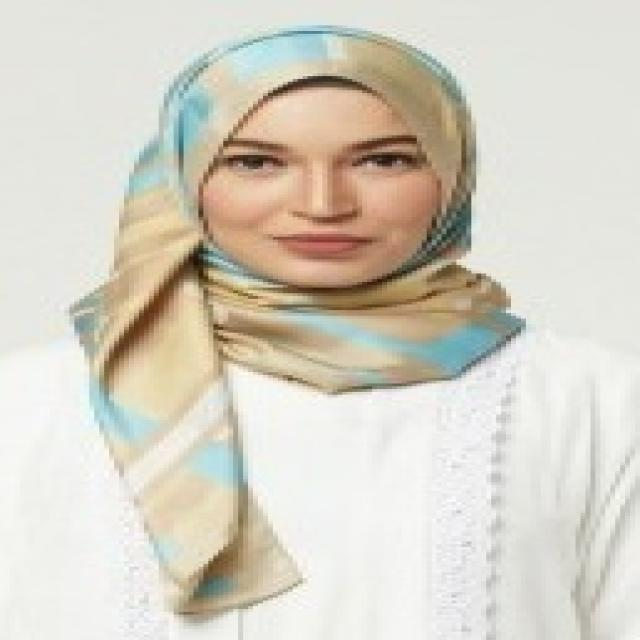head: (140, 21, 495, 299)
